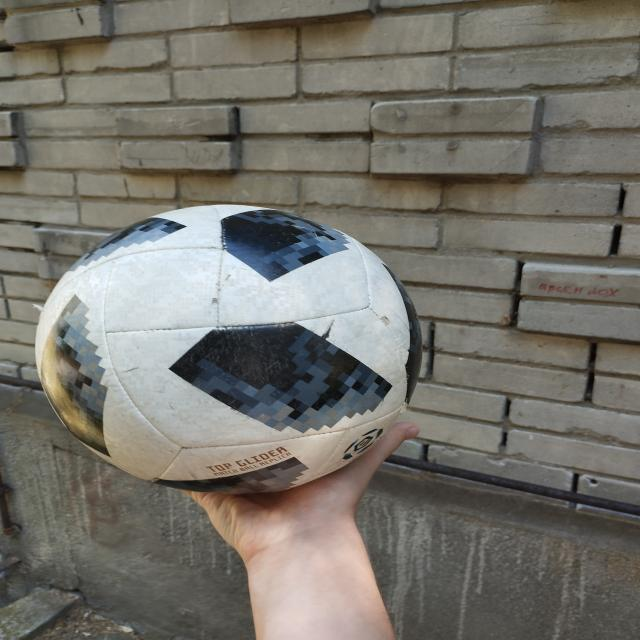nozna: (34, 204, 423, 493)
